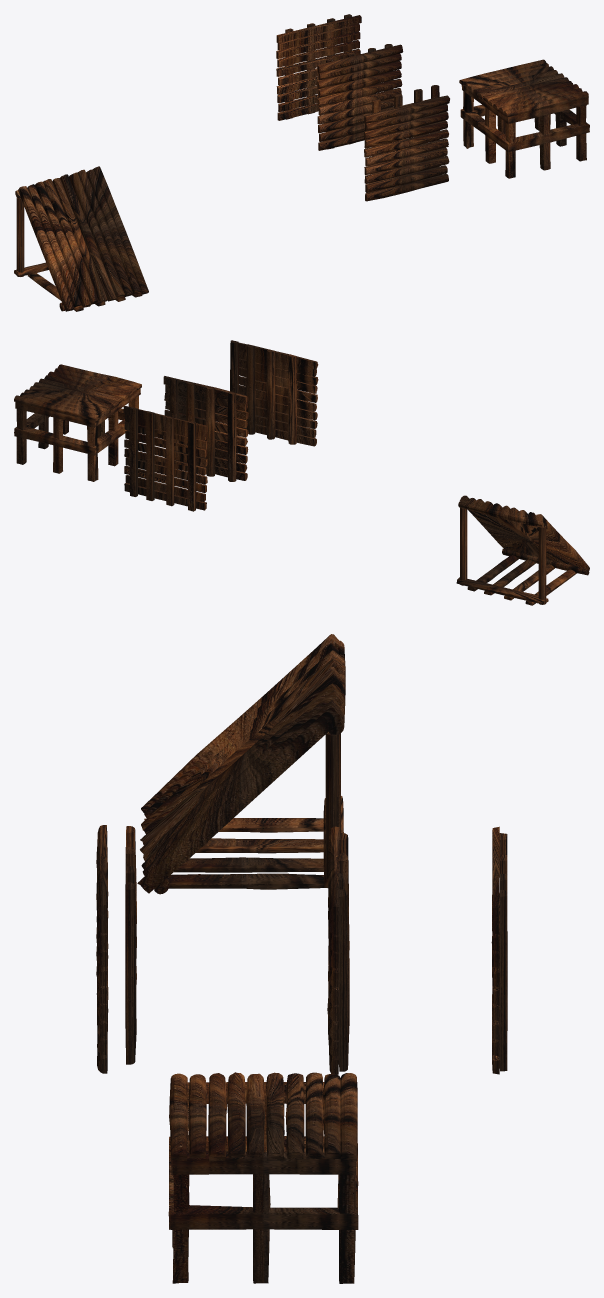
Rendered from Wood_wall.fbx.
3 renders of one model, top to bottom at view 1: azimuth 30°, elevation 25°; view 2: azimuth 150°, elevation 25°; view 3: azimuth 270°, elevation 25°, orthographic. The views are drawn at different scales.
Visible parts, largest first — view 1: Wall_Origina, Wall_Origina_004, Wall_Full_LO_000, Wall_Full_LO, Ground_Origi, Ground_origi_000, Ground_origi, Ground_origi_001, Cylinder_001, Wall_Origina_001, Wall_Origina_003; view 2: Wall_Full_LO, Wall_Full_LO_000, Wall_Origina_004, Ground_Origi, Wall_Origina, Wall_Origina_003, Ground_origi_000, Ground_origi, Wall_Origina_001, Wall_Origina_000, Ground_origi_001, Wall_Origina_002 (+2 smaller); view 3: Wall_Origina, Ground_Origi, Wall_Origina_001, Wall_Full_LO_000, Ground_origi, Ground_origi_000, Wall_Full_LO, Ground_origi_001, Wall_Origina_004, Wall_Origina_003, Cylinder.
Part boxes in pixels (<box>): Wall_Origina: <box>18,166,148,311</box>; Wall_Origina_004: <box>364,95,449,201</box>; Wall_Full_LO_000: <box>316,44,403,150</box>; Wall_Full_LO: <box>276,14,361,120</box>; Ground_Origi: <box>459,59,588,117</box>; Ground_origi_000: <box>463,91,586,178</box>; Ground_origi: <box>460,105,589,151</box>; Ground_origi_001: <box>461,85,588,123</box>; Cylinder_001: <box>16,197,24,276</box>; Wall_Origina_001: <box>27,273,142,311</box>; Wall_Origina_003: <box>372,85,439,167</box>; Wall_Full_LO: <box>123,406,207,511</box>; Wall_Full_LO_000: <box>163,376,248,481</box>; Wall_Origina_004: <box>238,342,318,446</box>; Ground_Origi: <box>14,364,141,421</box>; Wall_Origina: <box>460,495,589,571</box>; Wall_Origina_003: <box>230,340,296,444</box>; Ground_origi_000: <box>16,396,138,481</box>; Ground_origi: <box>14,408,127,455</box>; Wall_Origina_001: <box>467,555,576,605</box>; Wall_Origina_000: <box>458,501,589,575</box>; Ground_origi_001: <box>15,388,140,427</box>; Wall_Origina_002: <box>456,577,548,604</box>; Wall_Origina: <box>137,634,343,893</box>; Ground_Origi: <box>169,1072,357,1161</box>; Wall_Origina_001: <box>144,818,324,889</box>; Wall_Full_LO_000: <box>327,826,349,1074</box>; Ground_origi: <box>168,1136,358,1229</box>; Ground_origi_000: <box>172,1096,356,1283</box>; Wall_Full_LO: <box>491,826,507,1074</box>; Ground_origi_001: <box>171,1082,355,1174</box>; Wall_Origina_004: <box>96,825,108,1073</box>; Wall_Origina_003: <box>125,826,136,1064</box>; Cylinder: <box>325,732,340,878</box>.
Size of the model in its own units: 40.13 by 10.28 by 13.57.
Materials: 1 (1 with a texture image).
